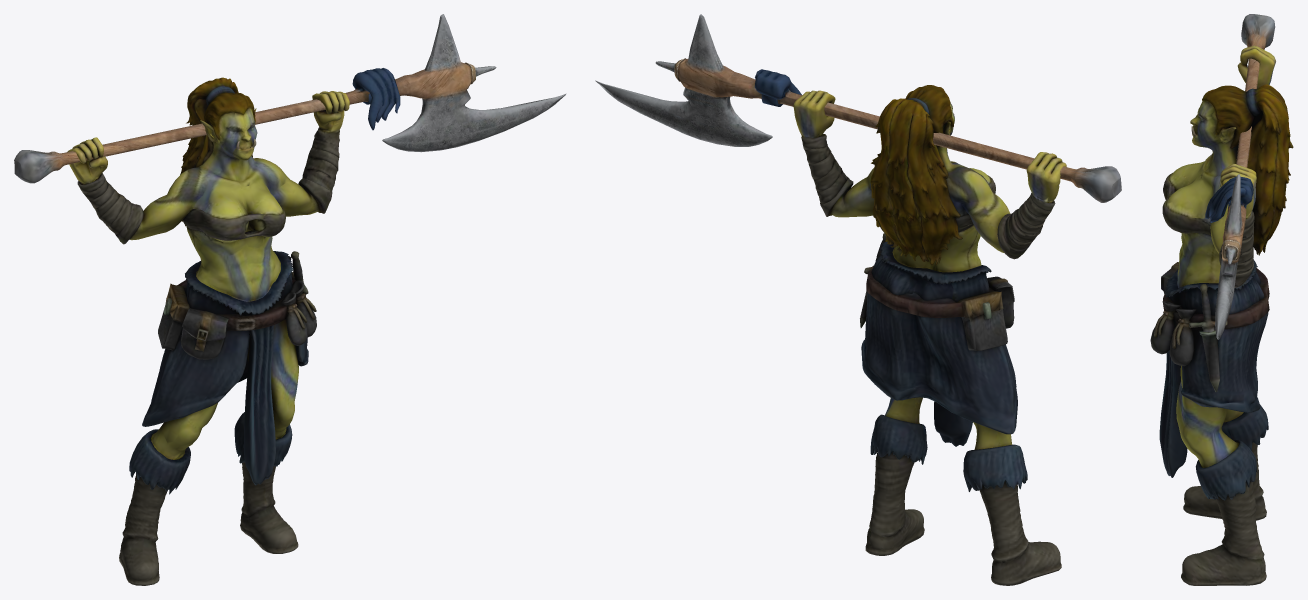
The model's file is MZ4250 - Half Orc Female Barbarian_blue_WarriorAxe.glb.
The picture shows the model from 3 angles, left to right: view 1: azimuth 30°, elevation 25°; view 2: azimuth 150°, elevation 25°; view 3: azimuth 270°, elevation 25°; orthographic projection. The views are drawn at different scales.
Visible parts, largest first — view 1: Uthgardt Warrior Axe.003; view 2: Uthgardt Warrior Axe.003; view 3: Uthgardt Warrior Axe.003.
Boxes of the visible parts, bbox=[...] form: Uthgardt Warrior Axe.003: bbox=[14, 14, 566, 585]; Uthgardt Warrior Axe.003: bbox=[595, 14, 1121, 585]; Uthgardt Warrior Axe.003: bbox=[1150, 14, 1293, 585].
Bounding box in the file's own units: 49.97 × 42.85 × 11.15.
Materials: 2 (2 with a texture image).
